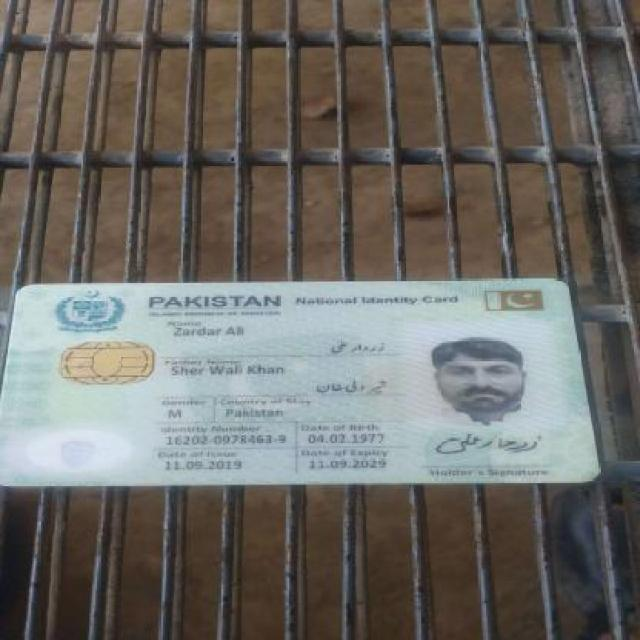Front: (3, 277, 602, 492)
